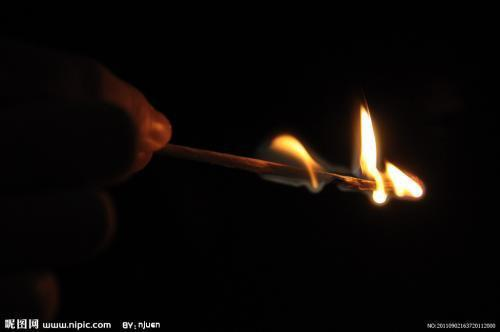fire: (259, 92, 427, 218)
